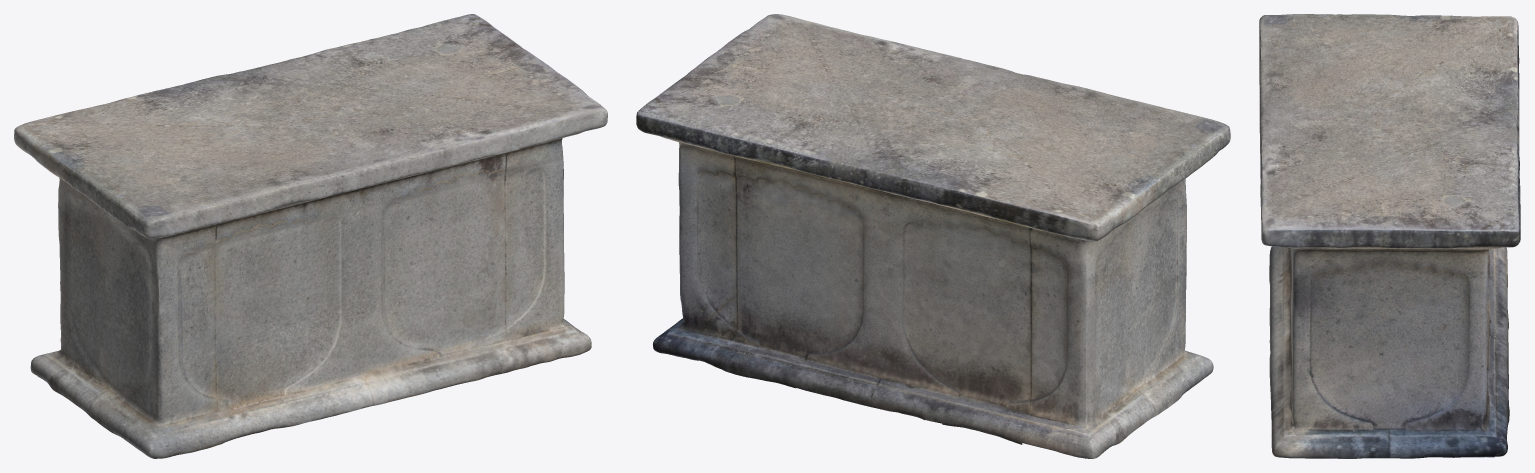
The model's file is stone_table.glb.
The picture shows the model from 3 angles, left to right: view 1: azimuth 30°, elevation 25°; view 2: azimuth 150°, elevation 25°; view 3: azimuth 270°, elevation 25°; orthographic projection. The views are drawn at different scales.
Visible parts, largest first — view 1: Object_2; view 2: Object_2; view 3: Object_2.
Part boxes in pixels (x1,y1,x2,y2): Object_2: (14,14,607,458); Object_2: (636,14,1230,458); Object_2: (1259,14,1520,458).
Size of the model in its own units: 2.46 by 1.26 by 1.25.
1 material, 1 textured.
